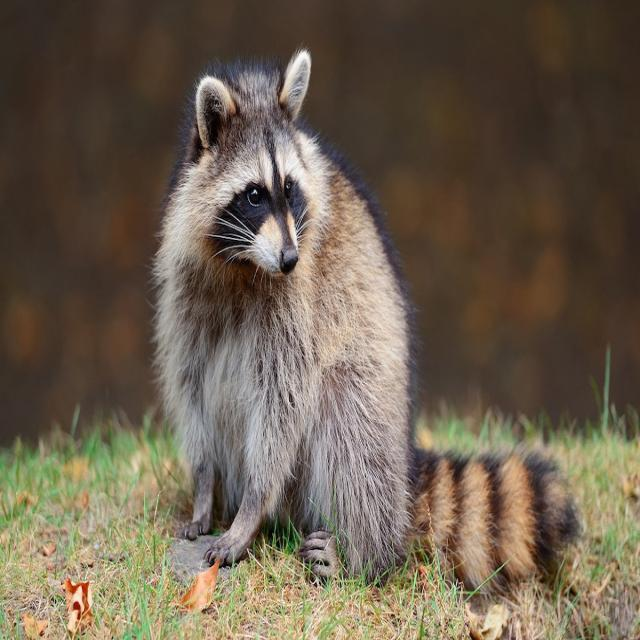Raccoon: (154, 49, 576, 580)
